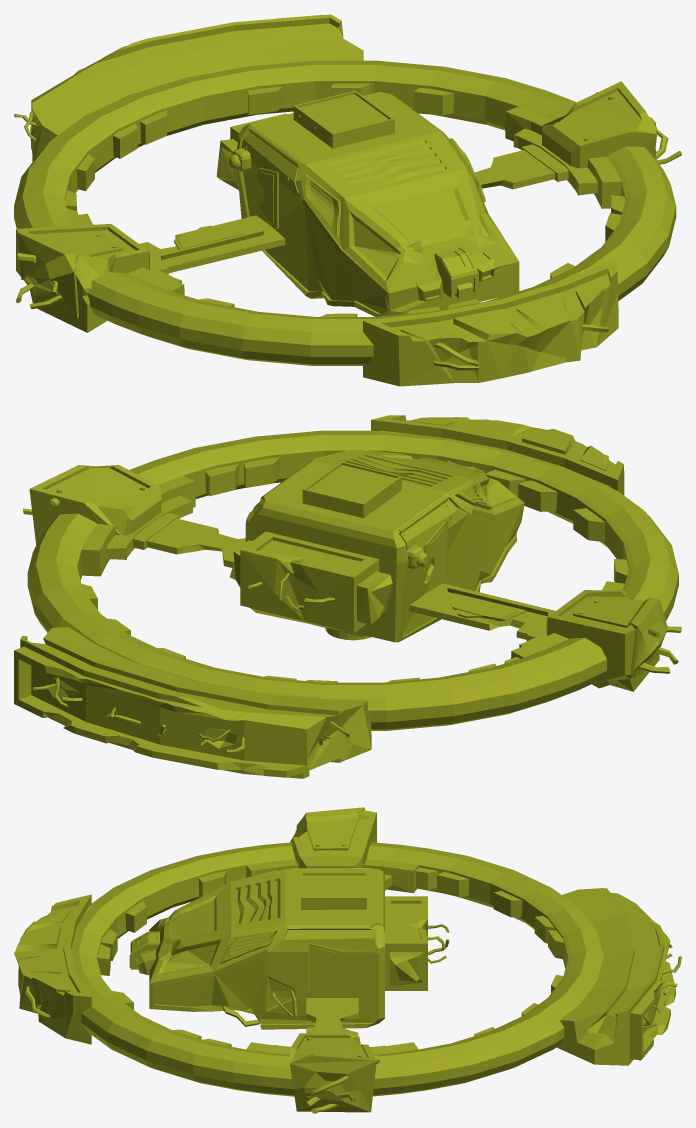
The model's file is 3D_ship_scavenger_object_dead_001.fbx.
The picture shows the model from 3 angles, top to bottom: view 1: azimuth 30°, elevation 25°; view 2: azimuth 150°, elevation 25°; view 3: azimuth 270°, elevation 25°; orthographic projection. The views are drawn at different scales.
Visible parts, largest first — view 1: polySurface84, polySurface1, Front_Dead_Front_Ok_pCylinder100, pCylinder156, pCylinder157, polySurface33, Core_Ok_pCube88, polySurface83, polySurface28, polySurface26; view 2: polySurface84, polySurface1, pCylinder156, pCylinder157, polySurface33, Front_Dead_Front_Ok_pCylinder100, Core_Ok_pCube88, polySurface28, polySurface26; view 3: polySurface84, polySurface1, pCylinder156, Front_Dead_Front_Ok_pCylinder100, polySurface33, Core_Ok_pCube88, pCylinder157, polySurface25, polySurface83.
Part boxes in pixels (x1,y1,x2,y2): polySurface84: [69, 90, 621, 316]; polySurface1: [14, 60, 676, 365]; Front_Dead_Front_Ok_pCylinder100: [363, 260, 618, 386]; pCylinder156: [14, 14, 363, 161]; pCylinder157: [16, 224, 149, 332]; polySurface33: [542, 81, 681, 180]; Core_Ok_pCube88: [65, 83, 625, 316]; polySurface83: [416, 246, 495, 301]; polySurface28: [174, 225, 248, 250]; polySurface26: [257, 167, 278, 228]; polySurface84: [81, 449, 624, 658]; polySurface1: [27, 430, 678, 730]; pCylinder156: [14, 627, 371, 778]; pCylinder157: [546, 590, 681, 691]; polySurface33: [23, 465, 161, 548]; Front_Dead_Front_Ok_pCylinder100: [371, 415, 624, 495]; Core_Ok_pCube88: [81, 457, 628, 682]; polySurface28: [451, 593, 526, 621]; polySurface26: [424, 521, 446, 583]; polySurface84: [149, 859, 449, 1054]; polySurface1: [71, 842, 603, 1096]; pCylinder156: [556, 888, 681, 1065]; Front_Dead_Front_Ok_pCylinder100: [14, 894, 92, 1044]; polySurface33: [290, 1033, 379, 1113]; Core_Ok_pCube88: [97, 867, 563, 1046]; pCylinder157: [290, 807, 376, 868]; polySurface25: [309, 943, 345, 990]; polySurface83: [129, 931, 160, 974].
Size of the model in its own units: 880 by 200 by 931.
